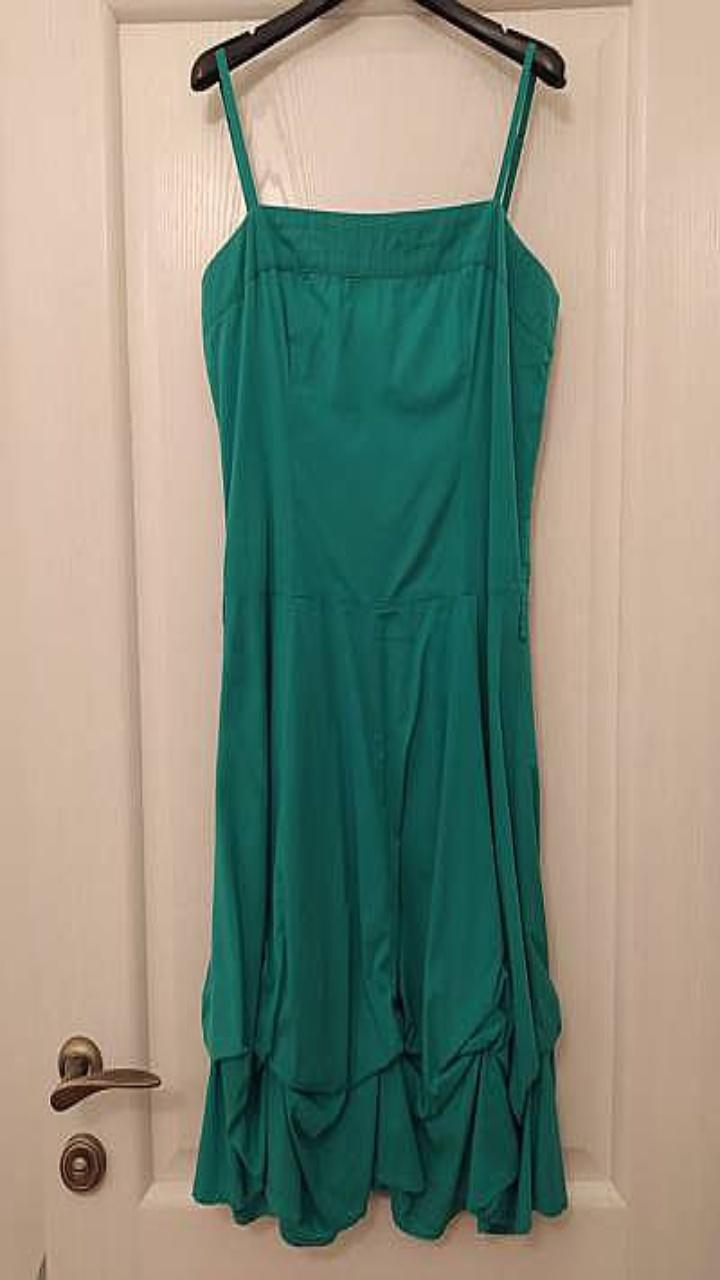Dresses: (192, 43, 566, 1244)
